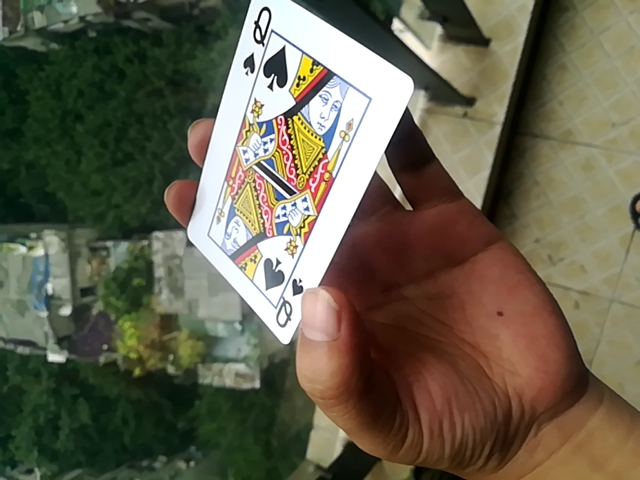ht q: (177, 0, 420, 359)
